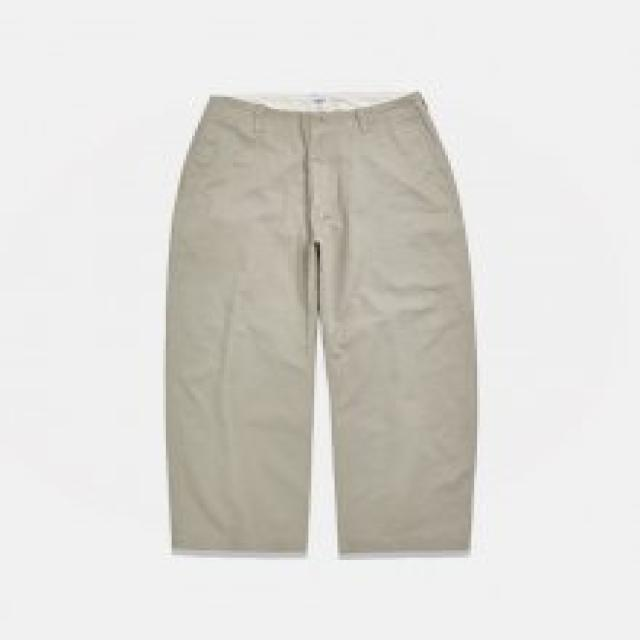long-pants: (166, 92, 474, 561)
